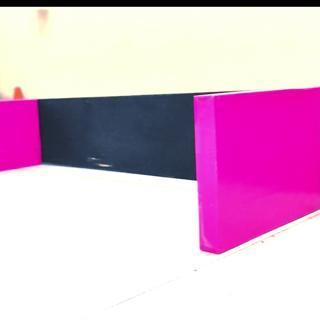xparking: (199, 97, 320, 238), (1, 101, 41, 162)
